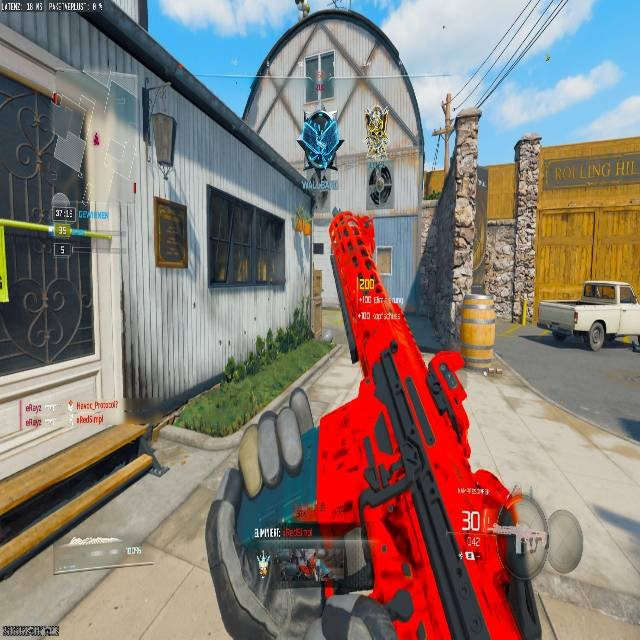player: (306, 552, 318, 579)
